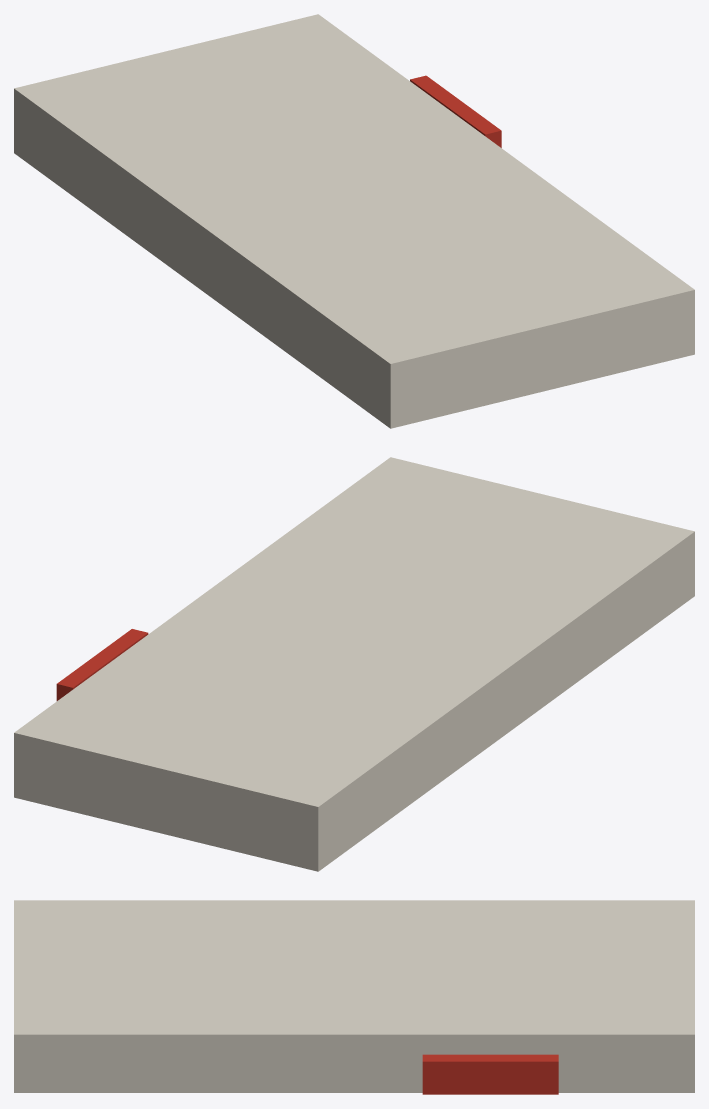
The model's file is left.glb.
The picture shows the model from 3 angles, top to bottom: view 1: azimuth 30°, elevation 25°; view 2: azimuth 150°, elevation 25°; view 3: azimuth 270°, elevation 25°; orthographic projection. The views are drawn at different scales.
Parts seen in each view (by area): view 1: left_floor, t_tab; view 2: left_floor, t_tab; view 3: left_floor, t_tab.
Boxes of the visible parts, x1,y1,x2,y2 form: left_floor: (14, 14, 694, 428); t_tab: (410, 75, 501, 147); left_floor: (14, 457, 694, 871); t_tab: (56, 629, 148, 700); left_floor: (14, 900, 694, 1092); t_tab: (422, 1054, 558, 1094).
Size of the model in its own units: 0.031 by 0.00569 by 0.06.
